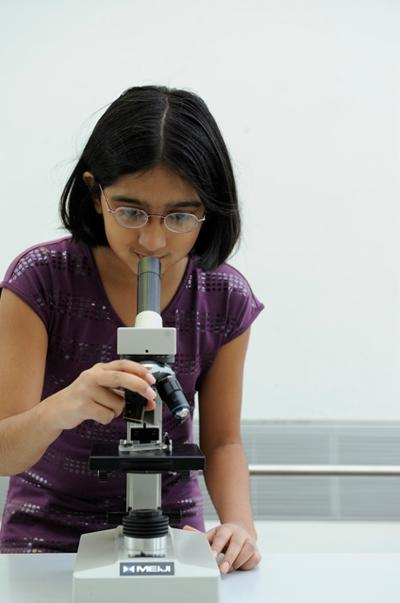person: (1, 88, 262, 575)
